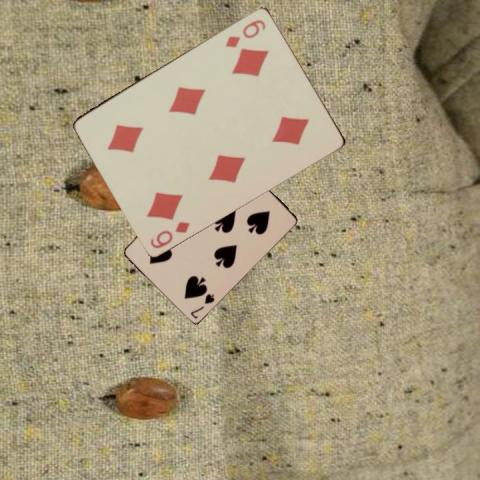6d: (222, 16, 267, 49), (148, 218, 192, 249)
7s: (187, 291, 216, 320)
